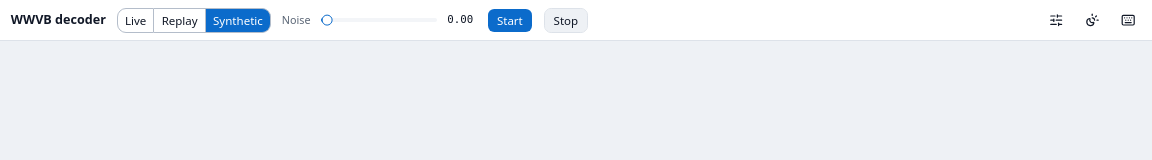
AppBar › asks for the ports when the list opens
Click the button "Live". click: (136, 20)
box: [117,8,154,33]
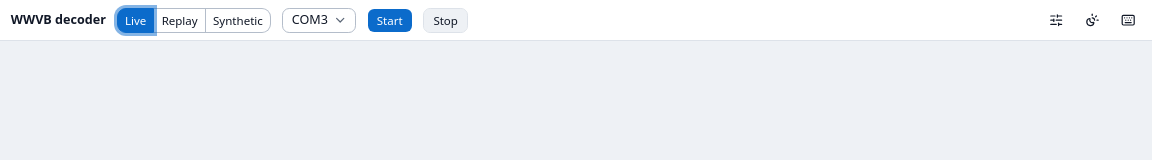
Click the dropdown named "Port". click: (319, 20)
box: [282,8,356,33]
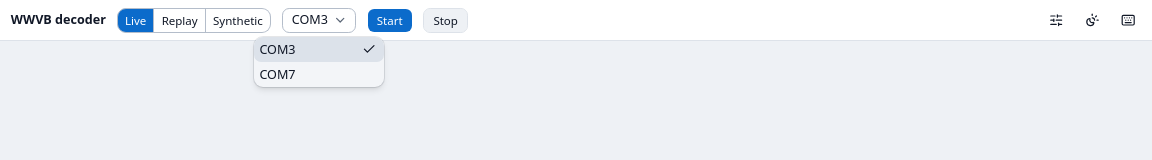
Check: the options read "COM3", "COM7", in this order, box [254,37,384,62]; [259,66,296,83]
